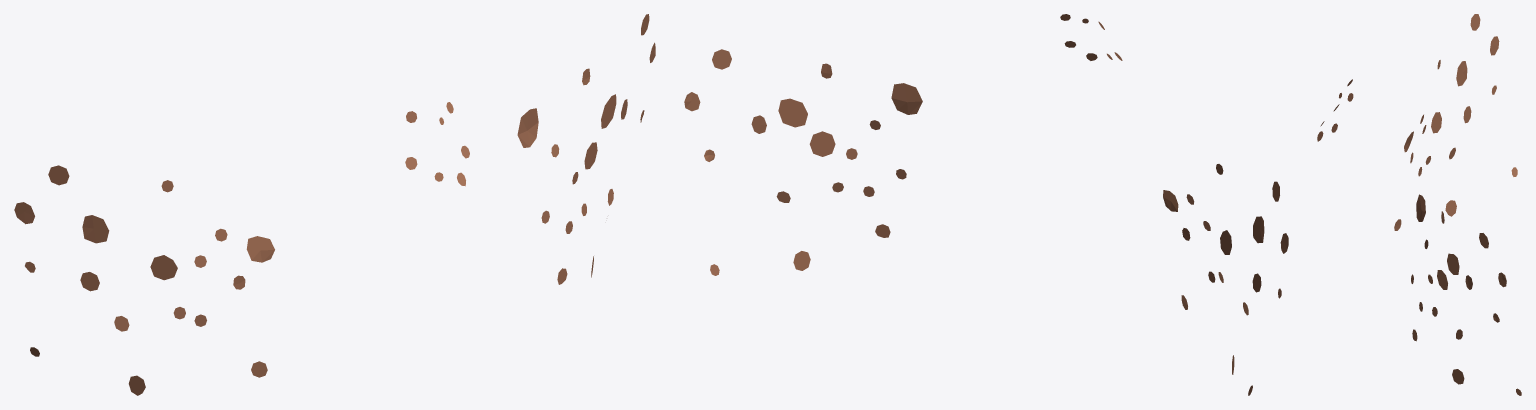
The model's file is miscFrecklesFemale.glb.
3 views of the same model, side by side, from view 1: azimuth 30°, elevation 25°; view 2: azimuth 150°, elevation 25°; view 3: azimuth 270°, elevation 25° (orthographic). The views are drawn at different scales.
Parts seen in each view (by area): view 1: miscFrecklesFemale; view 2: miscFrecklesFemale; view 3: miscFrecklesFemale.
Boxes of the visible parts, x1,y1,x2,y2 form: miscFrecklesFemale: (14, 14, 655, 395); miscFrecklesFemale: (684, 14, 1288, 395); miscFrecklesFemale: (1317, 14, 1521, 395).
Size of the model in its own units: 0.1529 by 0.0637 by 0.0551.
